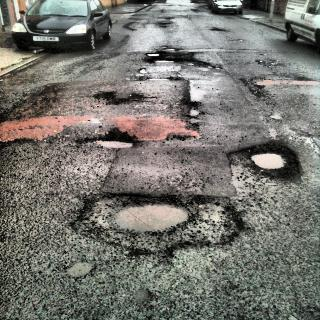pothole: (82, 186, 236, 252), (230, 139, 300, 180), (137, 44, 203, 70), (97, 85, 150, 108), (170, 98, 214, 124), (87, 133, 140, 150)
